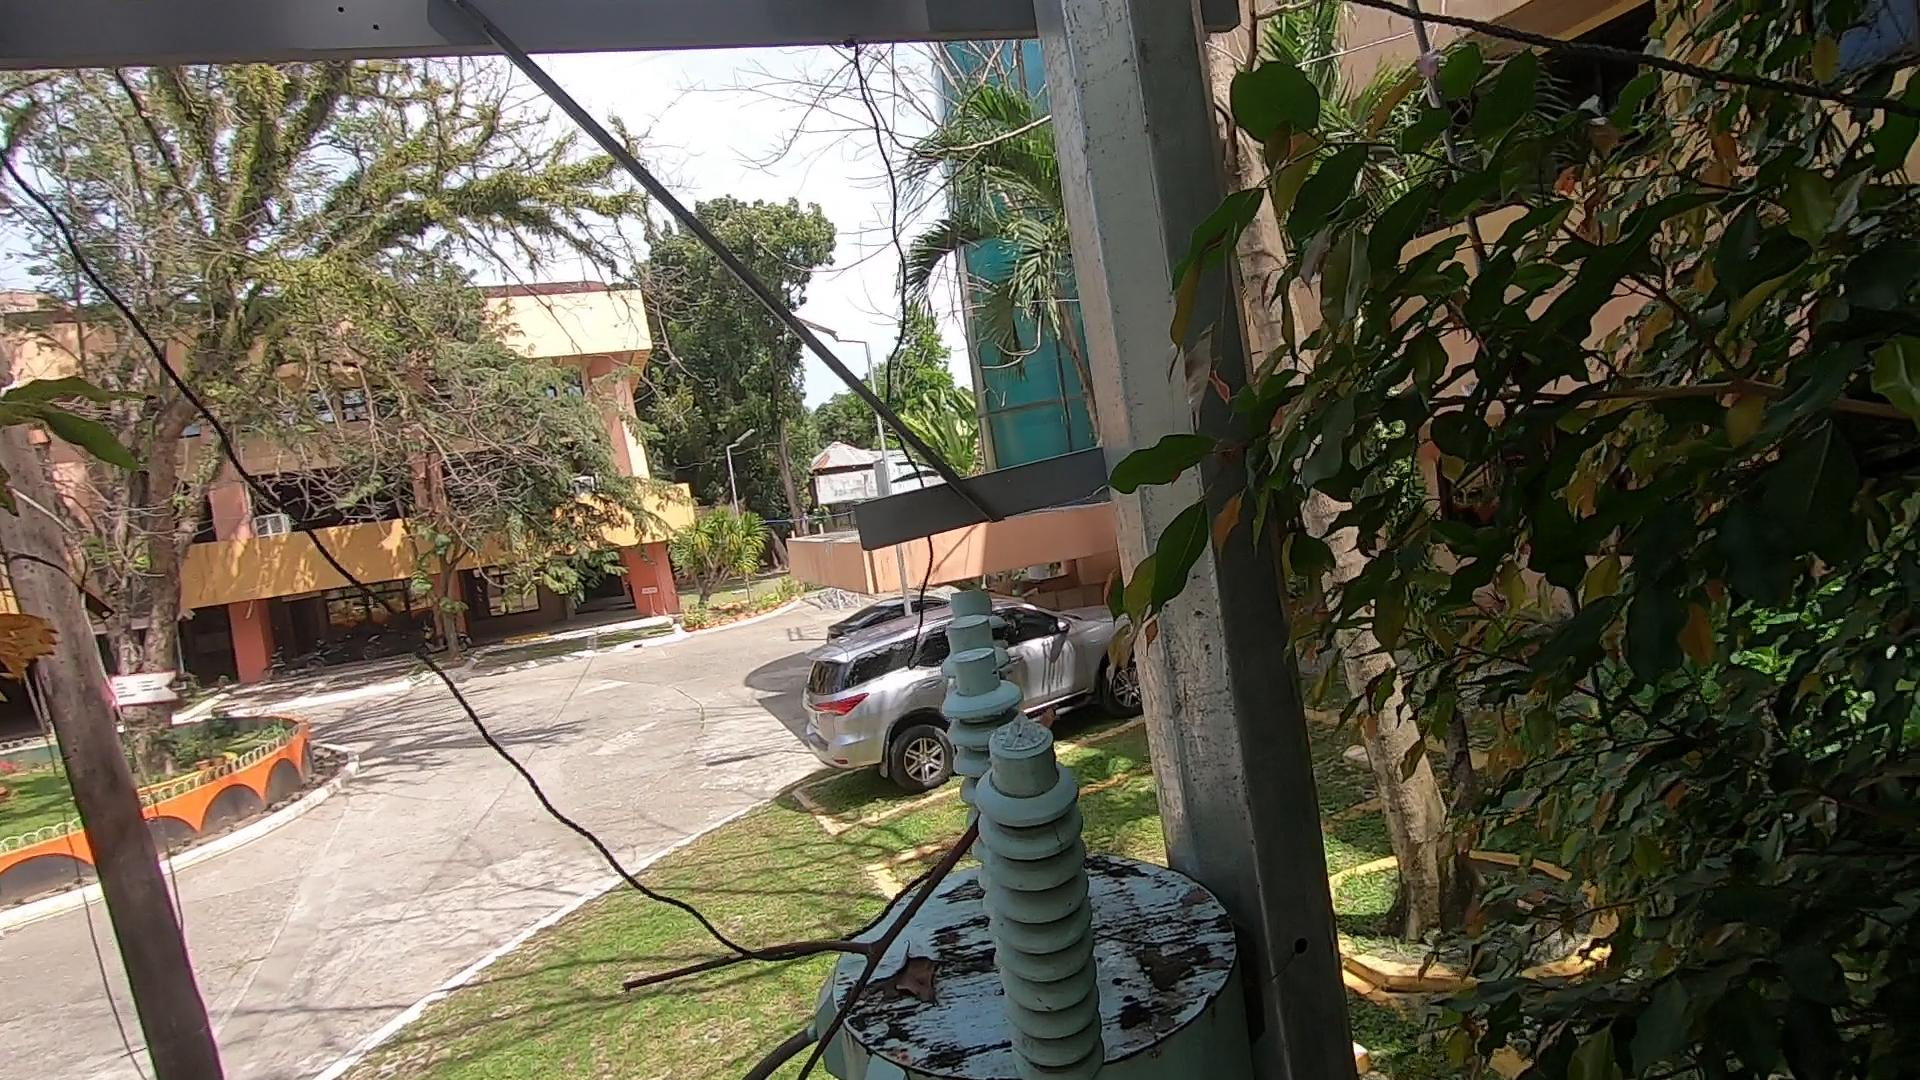leaf: (866, 939, 957, 1007)
tree branch: (582, 753, 1040, 1080)
